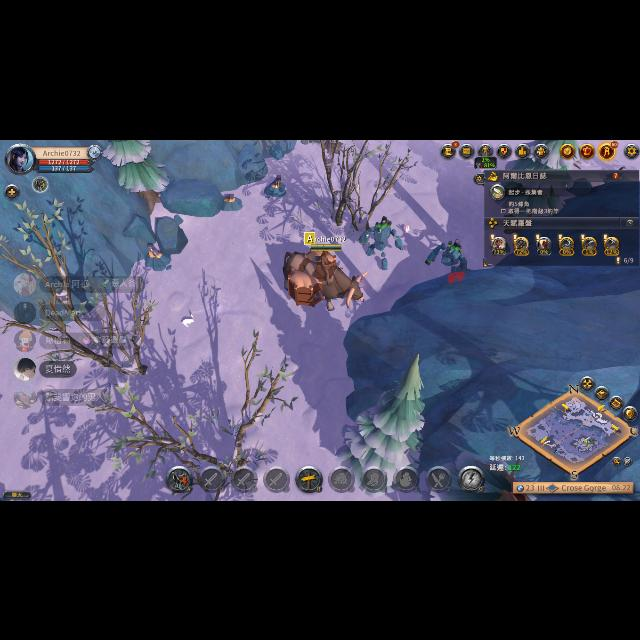mine_ii: (138, 240, 172, 270), (222, 190, 244, 212), (266, 174, 286, 196)
